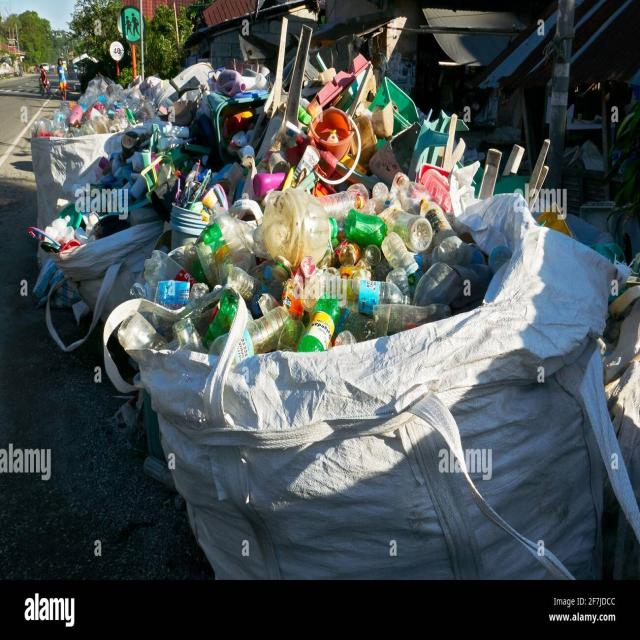plastic: (206, 216, 463, 336), (304, 98, 380, 182)
